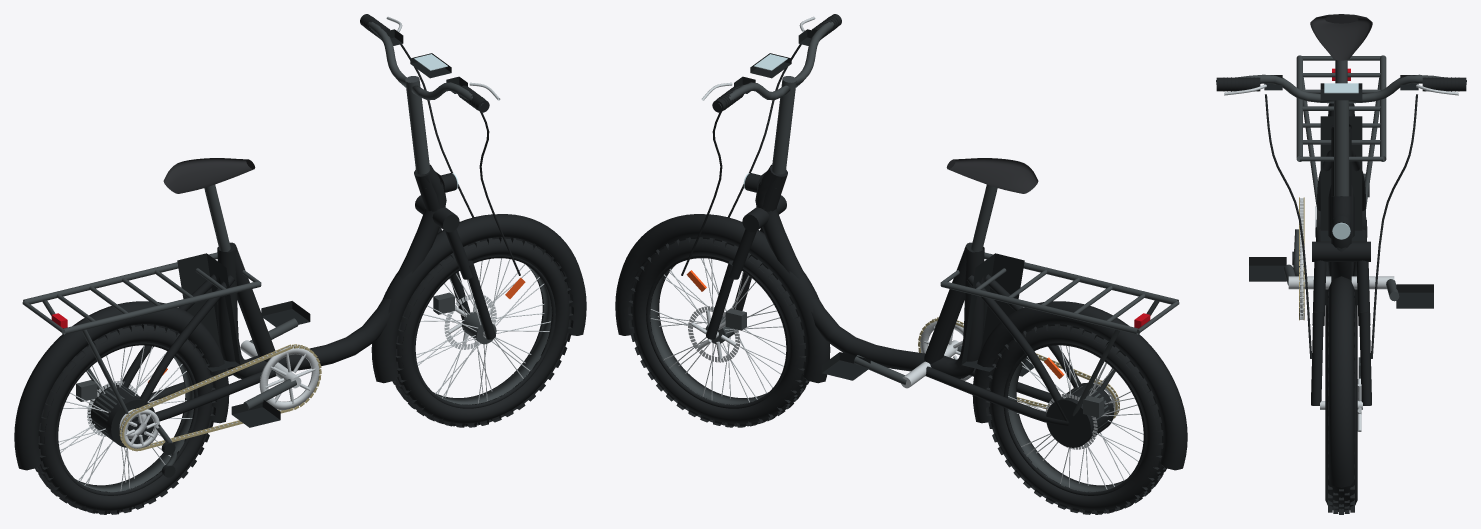
The model's file is rad-power-radrunner-2.glb.
3 views of the same model, side by side, from view 1: azimuth 30°, elevation 25°; view 2: azimuth 150°, elevation 25°; view 3: azimuth 270°, elevation 25° (orthographic). The views are drawn at different scales.
Parts seen in each view (by area): view 1: Bodywork | black, Chassis | black, FrontWheel | rubber, RearWheel | rubber, Bodywork | graphite, Drive | steel, FrontWheel | steel, FrontWheel | graphite, Cockpit | graphite, BatteryMount | black, Fork | black, Bodywork | seat (+11 smaller); view 2: Bodywork | black, Chassis | black, FrontWheel | rubber, RearWheel | rubber, Bodywork | graphite, FrontWheel | steel, Cockpit | graphite, BatteryMount | black, MotorMount | black, Fork | black, FrontWheel | graphite, RearWheel | graphite (+10 smaller); view 3: Bodywork | black, Fork | black, Bodywork | graphite, Cockpit | graphite, Cockpit | rubber, BatteryMount | black, FrontWheel | rubber, Chassis | black, Bodywork | seat, Drive | black, Drive | steel, Cockpit | black (+6 smaller).
Boxes of the visible parts, left/top/right/bottom form: Bodywork | black: left=14, top=173, right=586, bottom=470; Chassis | black: left=122, top=164, right=446, bottom=425; FrontWheel | rubber: left=392, top=237, right=573, bottom=427; RearWheel | rubber: left=35, top=324, right=216, bottom=514; Bodywork | graphite: left=22, top=252, right=261, bottom=413; Drive | steel: left=119, top=340, right=319, bottom=448; FrontWheel | steel: left=416, top=258, right=550, bottom=403; FrontWheel | graphite: left=433, top=265, right=551, bottom=404; Cockpit | graphite: left=367, top=22, right=483, bottom=174; BatteryMount | black: left=177, top=253, right=240, bottom=371; Fork | black: left=415, top=195, right=495, bottom=339; Bodywork | seat: left=163, top=158, right=255, bottom=193; Bodywork | black: left=615, top=173, right=1187, bottom=470; Chassis | black: left=755, top=164, right=1081, bottom=426; FrontWheel | rubber: left=628, top=237, right=809, bottom=427; RearWheel | rubber: left=985, top=324, right=1166, bottom=514; Bodywork | graphite: left=940, top=252, right=1179, bottom=416; FrontWheel | steel: left=650, top=258, right=785, bottom=402; Cockpit | graphite: left=718, top=22, right=834, bottom=174; BatteryMount | black: left=961, top=253, right=1024, bottom=371; MotorMount | black: left=1046, top=382, right=1114, bottom=447; Fork | black: left=706, top=195, right=786, bottom=339; FrontWheel | graphite: left=649, top=265, right=768, bottom=405; RearWheel | graphite: left=1007, top=356, right=1124, bottom=492; Bodywork | black: left=1328, top=103, right=1354, bottom=487; Fork | black: left=1311, top=241, right=1371, bottom=405; Bodywork | graphite: left=1296, top=55, right=1386, bottom=208; Cockpit | graphite: left=1216, top=74, right=1466, bottom=196; Cockpit | rubber: left=1216, top=77, right=1466, bottom=358; BatteryMount | black: left=1320, top=116, right=1362, bottom=241; FrontWheel | rubber: left=1325, top=298, right=1357, bottom=514; Chassis | black: left=1315, top=124, right=1367, bottom=281; Bodywork | seat: left=1310, top=14, right=1372, bottom=60; Drive | black: left=1249, top=251, right=1433, bottom=308; Drive | steel: left=1288, top=198, right=1394, bottom=319; Cockpit | black: left=1223, top=75, right=1459, bottom=100.
Size of the model in its own units: 1.83 by 1.16 by 0.6634.
